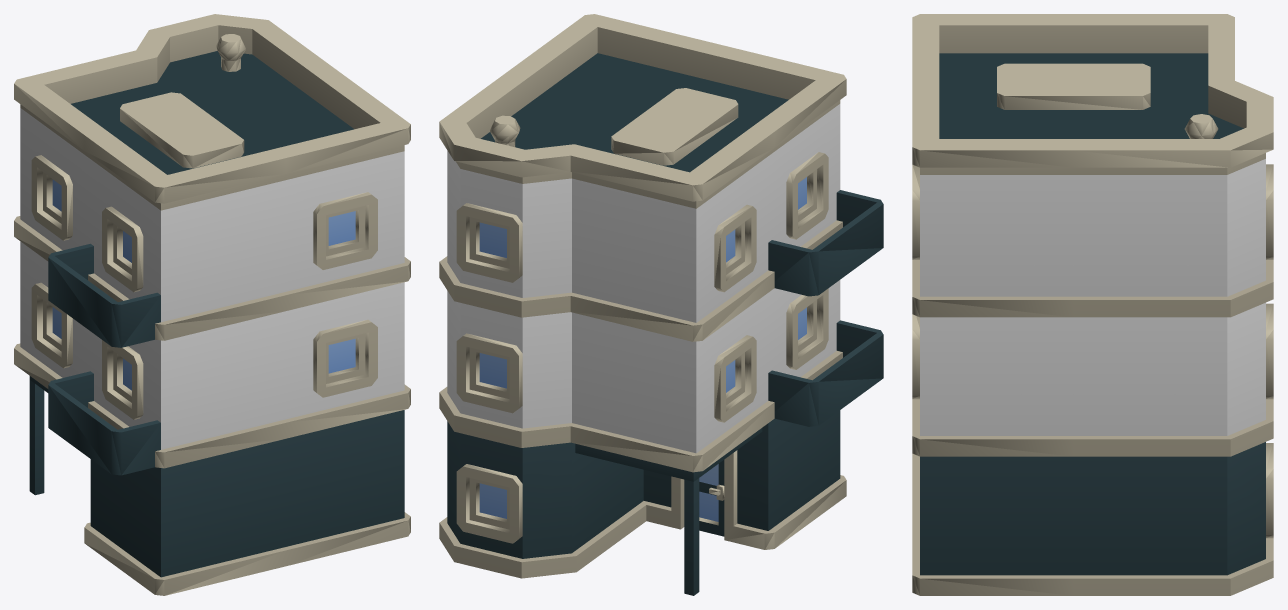
The model's file is building-b.glb.
The picture shows the model from 3 angles, left to right: view 1: azimuth 30°, elevation 25°; view 2: azimuth 150°, elevation 25°; view 3: azimuth 270°, elevation 25°; orthographic projection. The views are drawn at different scales.
Visible parts, largest first — view 1: building-b; view 2: building-b; view 3: building-b.
Part boxes in pixels (<box>): building-b: <box>14,14,410,595</box>; building-b: <box>439,14,883,595</box>; building-b: <box>912,14,1273,595</box>.
Bounding box in the file's own units: 9.7 × 12.93 × 9.4.
